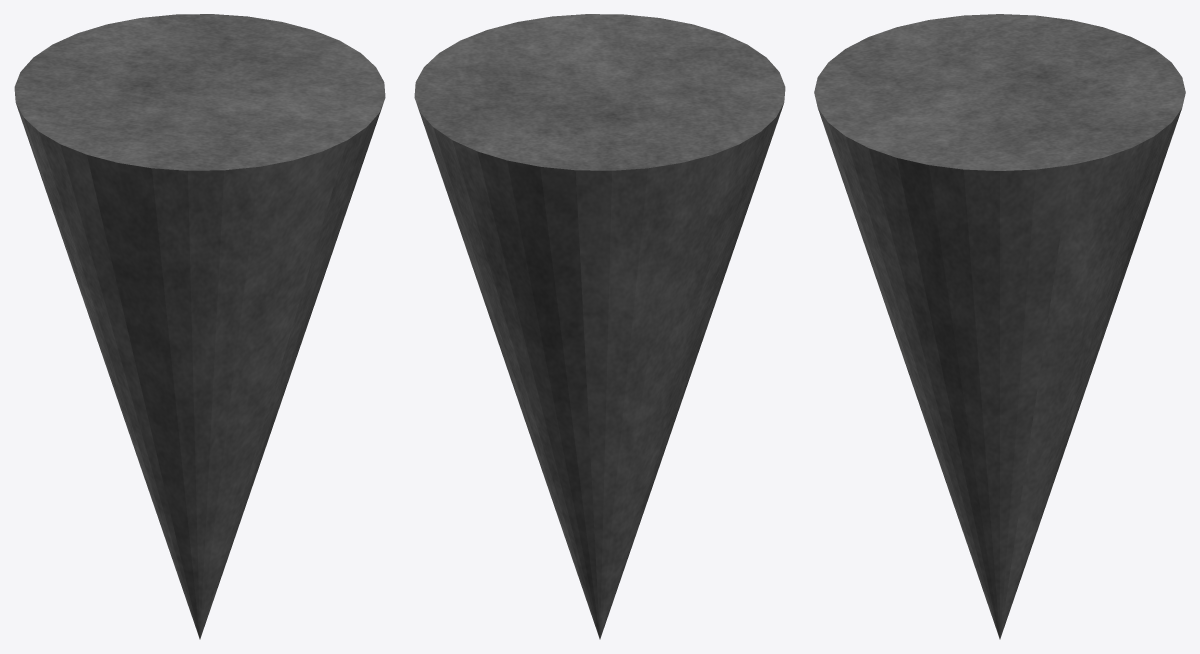
The model's file is turara.obj.
3 renders of one model, left to right at view 1: azimuth 30°, elevation 25°; view 2: azimuth 150°, elevation 25°; view 3: azimuth 270°, elevation 25°, orthographic.
Parts seen in each view (by area): view 1: 円錐; view 2: 円錐; view 3: 円錐.
Boxes of the visible parts, x1,y1,x2,y2 form: 円錐: (14,14,385,639); 円錐: (414,14,785,639); 円錐: (814,14,1185,639).
Bounding box in the file's own units: 1.6 × 2.6 × 1.6.
Materials: 1 (1 with a texture image).
